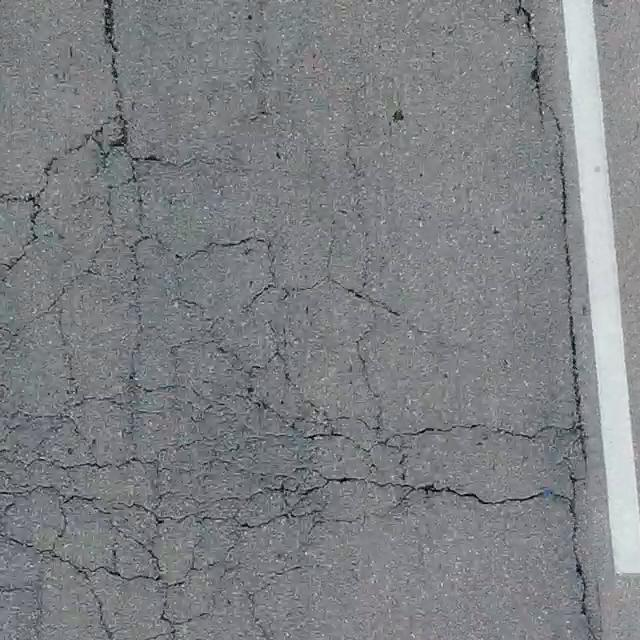GRIETA: (547, 105, 585, 467), (570, 470, 595, 639), (103, 0, 124, 110), (530, 44, 541, 117), (518, 7, 531, 35)
PIEL DE COCODRILO: (0, 109, 574, 639)
